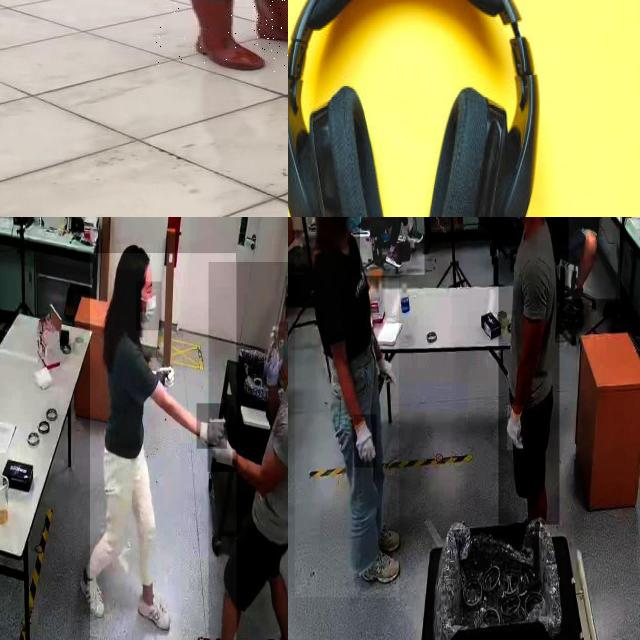Ear-protection: (426, 0, 548, 217), (288, 0, 392, 217)
boots: (181, 0, 267, 72), (253, 0, 288, 52)
face_mask: (136, 282, 162, 331), (342, 217, 368, 249), (278, 321, 288, 380), (499, 217, 526, 230)
hand_glove: (208, 422, 238, 472), (197, 403, 227, 449), (354, 414, 377, 468), (507, 405, 525, 451)
head_nohelmet: (115, 244, 153, 270)
person: (89, 253, 236, 640), (294, 217, 399, 598), (208, 262, 288, 640), (498, 217, 559, 525), (568, 217, 620, 299), (360, 217, 425, 276)
shoes: (78, 559, 114, 625), (130, 581, 174, 635), (358, 550, 404, 592), (359, 517, 407, 555)
